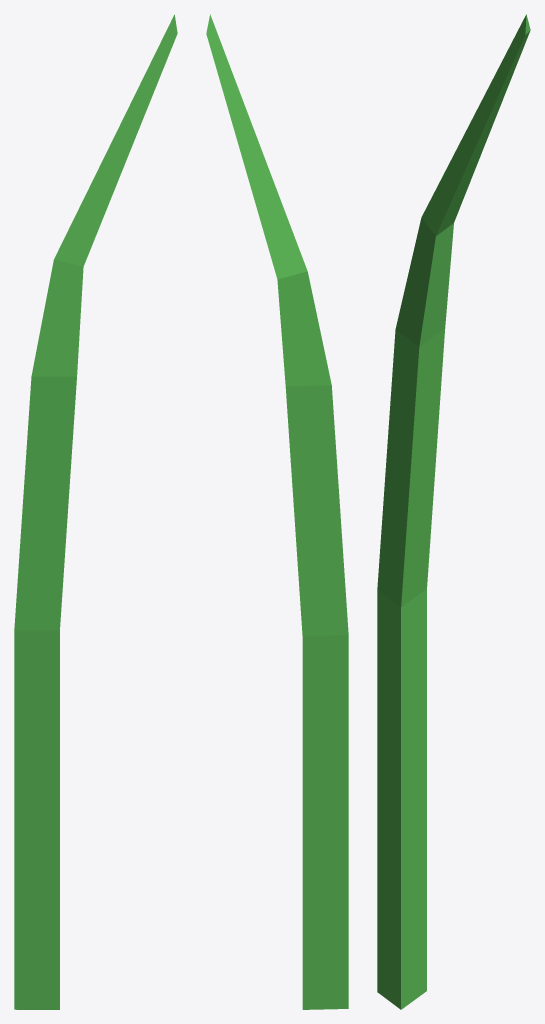
File: blade_t2.glb
The picture shows the model from 3 angles, left to right: view 1: azimuth 30°, elevation 25°; view 2: azimuth 150°, elevation 25°; view 3: azimuth 330°, elevation 25°; orthographic projection. The views are drawn at different scales.
Parts seen in each view (by area): view 1: 2t; view 2: 2t; view 3: 2t.
Part boxes in pixels (x1,y1,x2,y2): 2t: (14, 14, 177, 1009); 2t: (206, 14, 348, 1009); 2t: (377, 14, 530, 1009).
Size of the model in its own units: 0.1997 by 1.22 by 0.0564.
